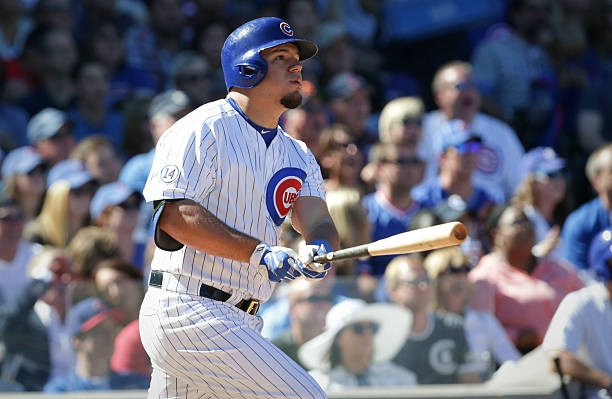bita: (306, 224, 463, 265)
